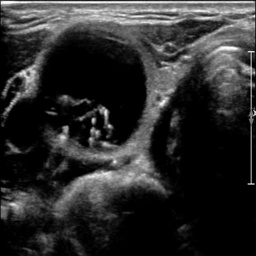mass: (40, 29, 147, 149)
